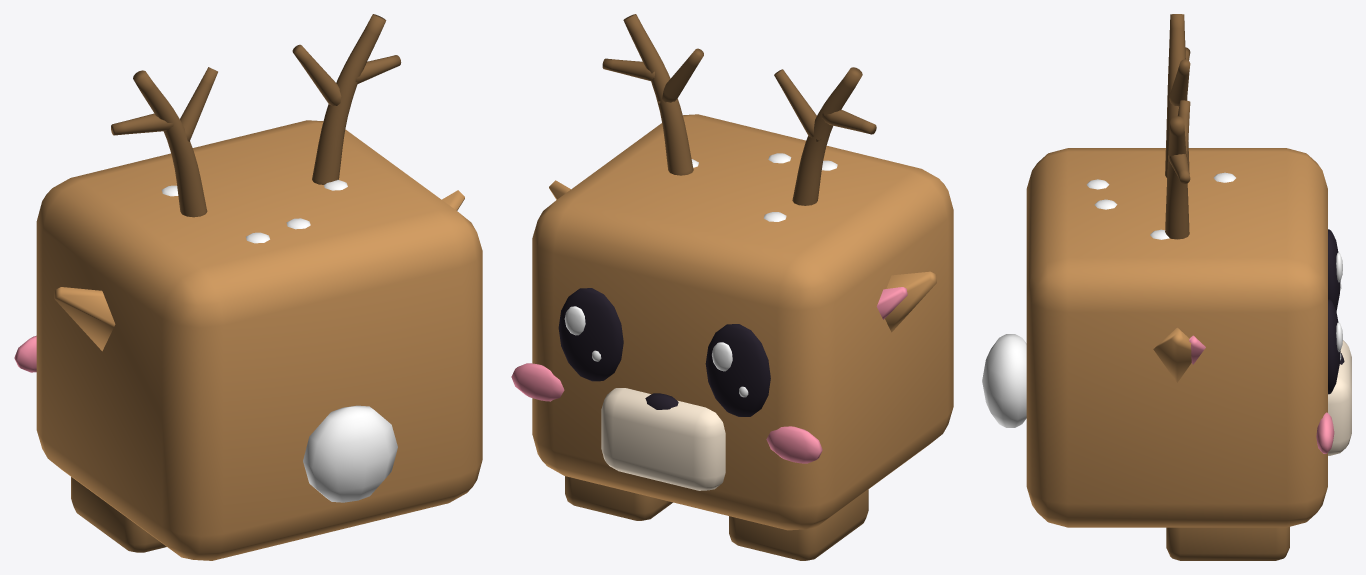
The model's file is pet_deer.fbx.
The picture shows the model from 3 angles, left to right: view 1: azimuth 30°, elevation 25°; view 2: azimuth 150°, elevation 25°; view 3: azimuth 270°, elevation 25°; orthographic projection. The views are drawn at different scales.
Parts seen in each view (by area): view 1: pet_deer; view 2: pet_deer; view 3: pet_deer.
Boxes of the visible parts, <box> form: pet_deer: <box>14,14,482,560</box>; pet_deer: <box>511,14,953,560</box>; pet_deer: <box>982,14,1351,560</box>.
Bounding box in the file's own units: 2.74 × 3.07 × 2.33.
Materials: 1 (1 with a texture image).
